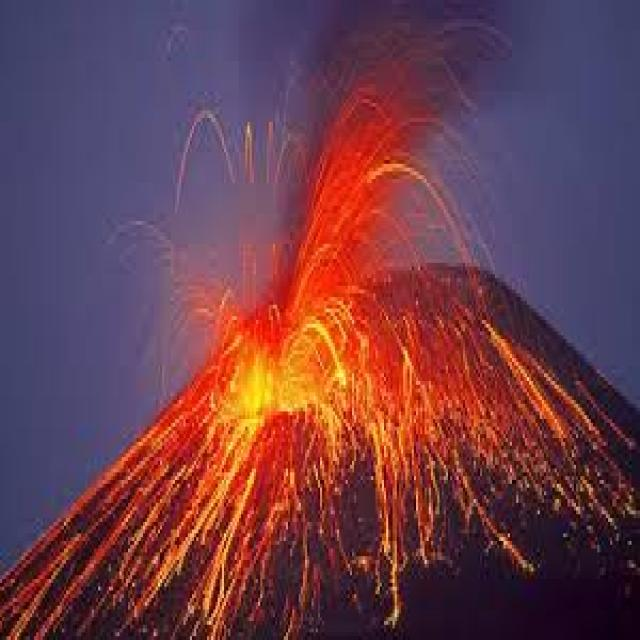explosion: (158, 49, 561, 640)
